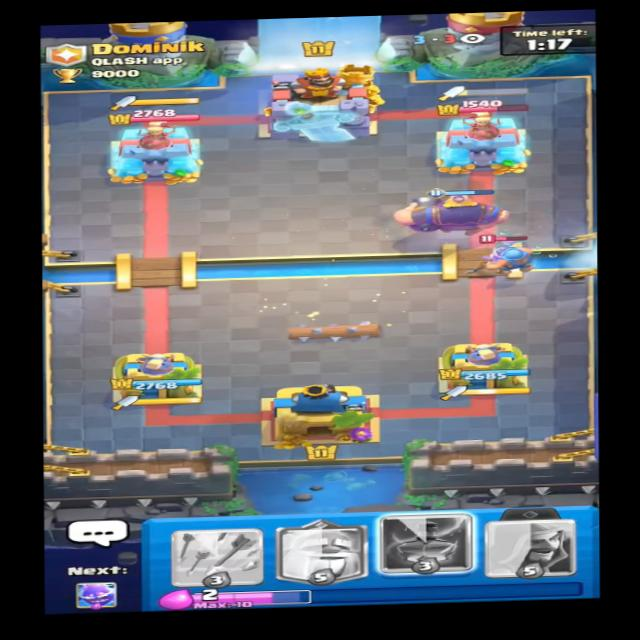little-prince: (483, 232, 523, 263)
